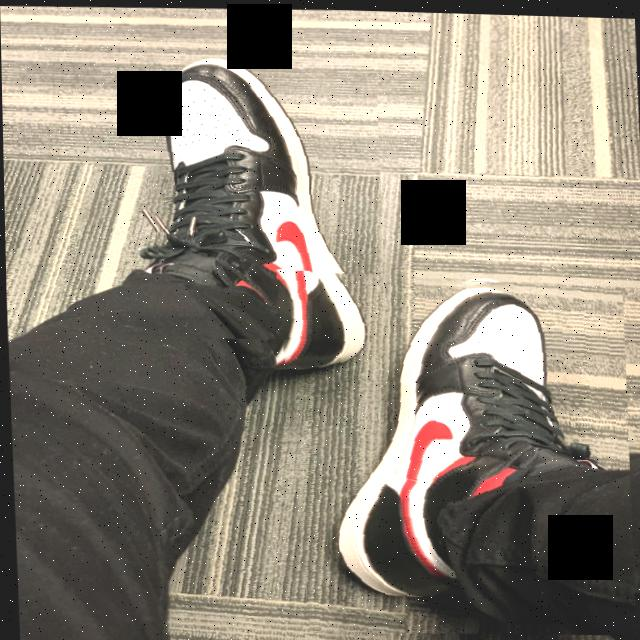shoe: (274, 262, 633, 638), (142, 78, 385, 342)
